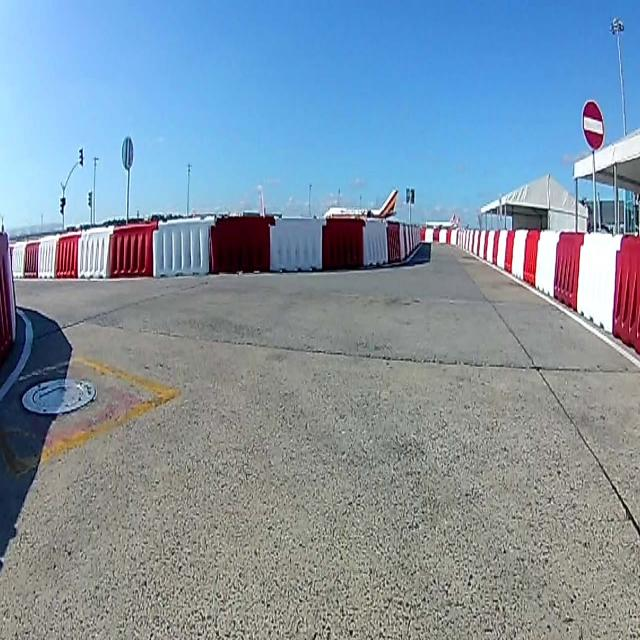girisyok: (581, 100, 603, 145)
